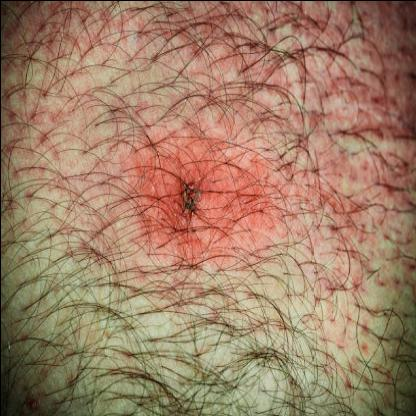Tick: (136, 144, 267, 251)
